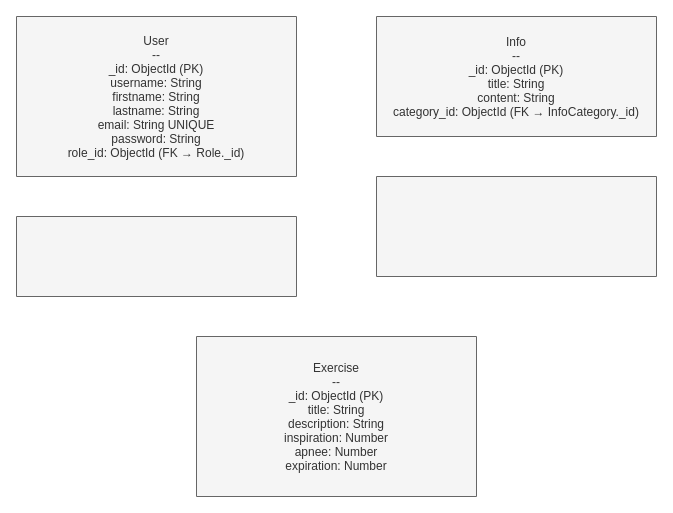
This 673x513 diagram has some shape labels left out. The box of each missing label's shape, as (x1, y1, x2, y2) in pixels:
InfoCategory -- _id: ObjectId (PK) name: String UNIQUE description: String: (376, 176, 656, 276)
Role -- _id: ObjectId (PK) name: String UNIQUE: (16, 216, 296, 296)
